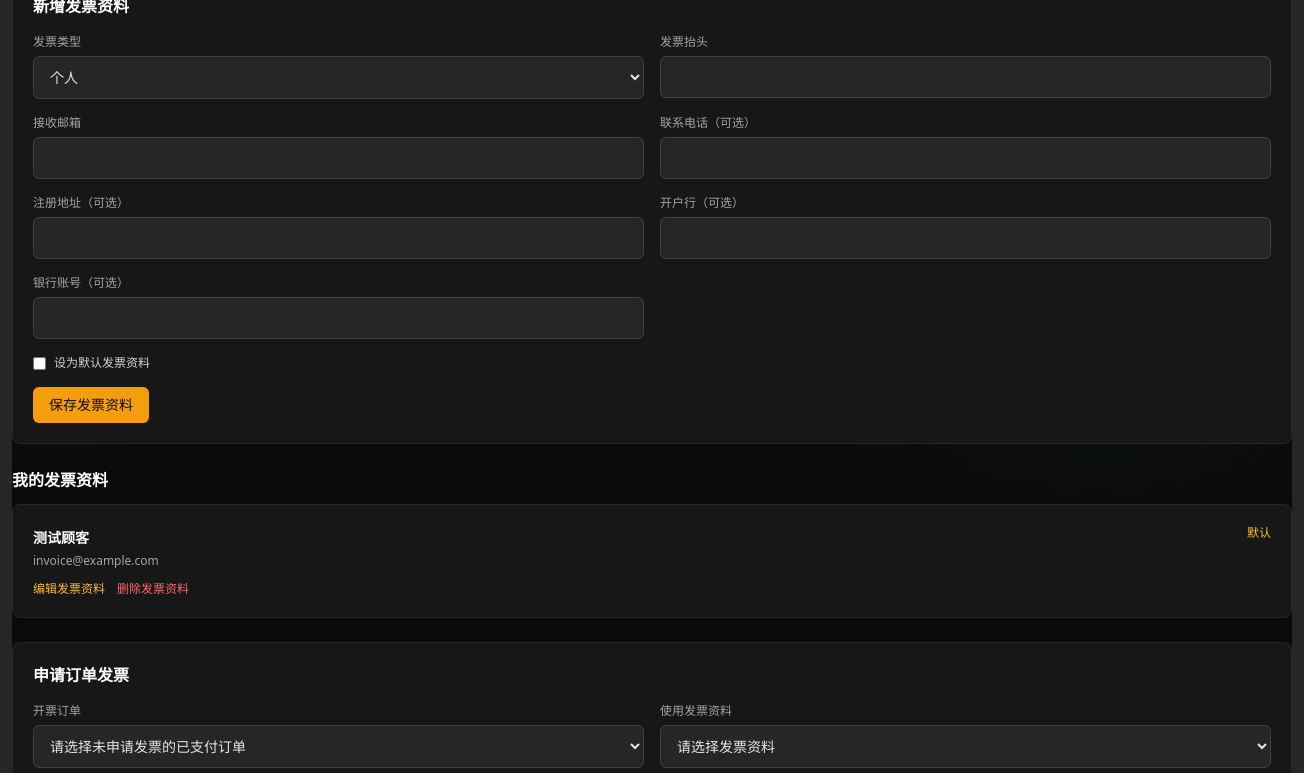
Test case: InvoicePanel › requests an invoice for an eligible order and displays issuance status
Select "#42 · ¥128.00" in the dropdown labelled "开票订单" at (338, 746), box [33,725,644,768]
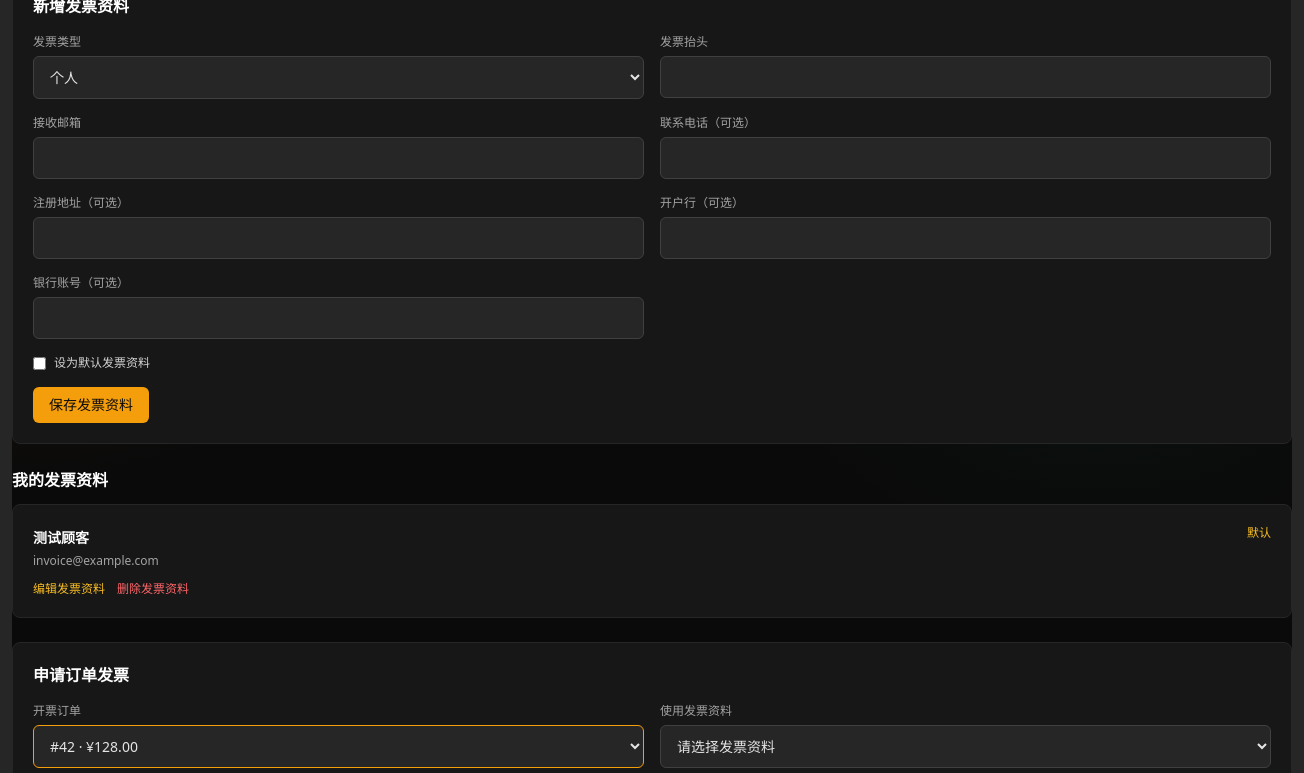
Select "测试顾客" in the dropdown labelled "使用发票资料" at (966, 746), box [660,725,1271,768]
(page scrolled)
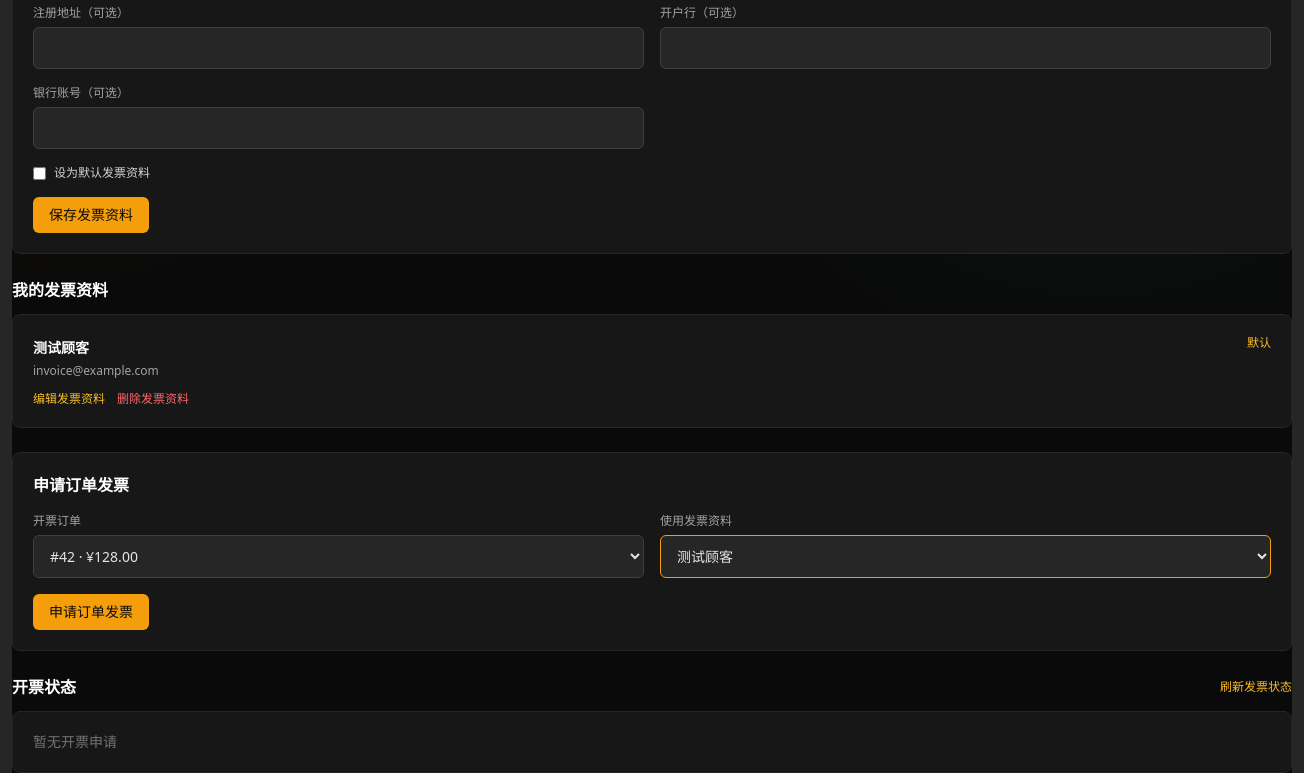
Click the button "申请订单发票" at (91, 612), box [33,594,149,630]
(page scrolled)
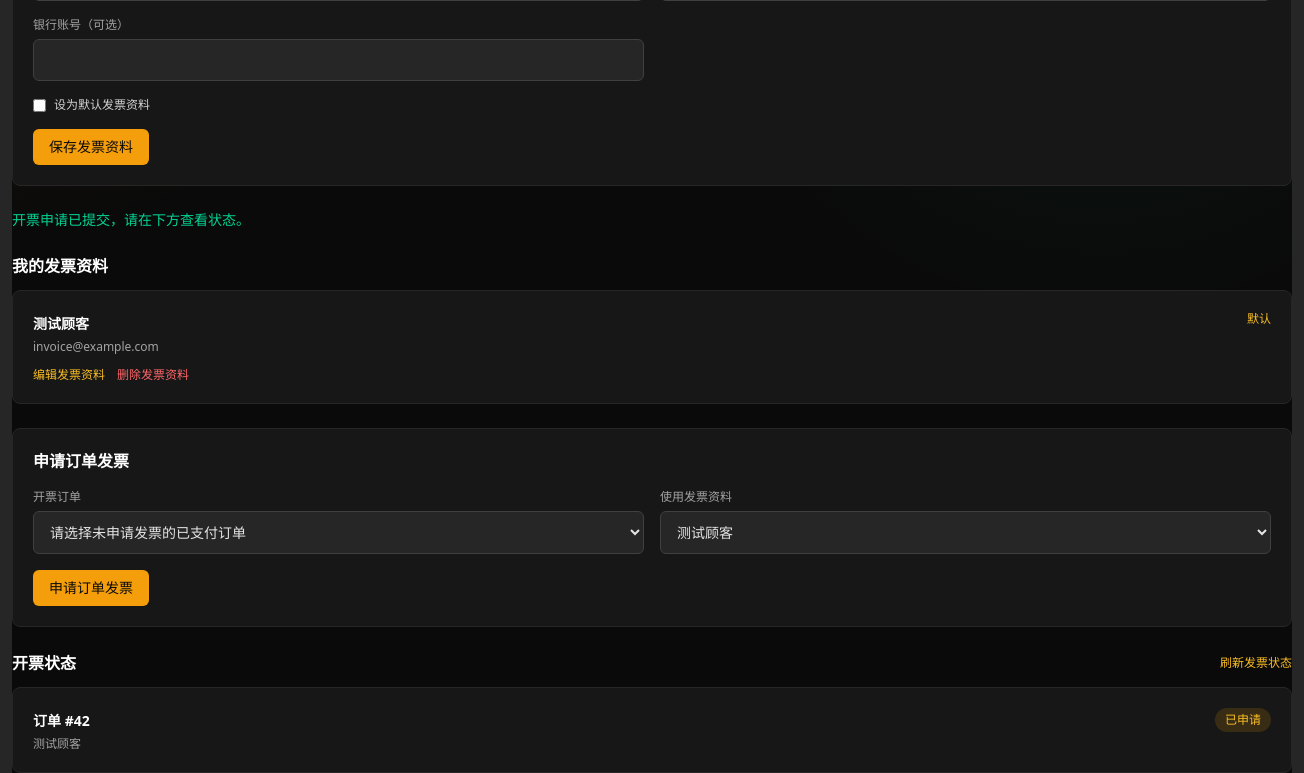
Check: the message shows "开票申请已提交", box [12,210,250,229]
Check: the text "已申请" is shown, box [1215,708,1271,732]
